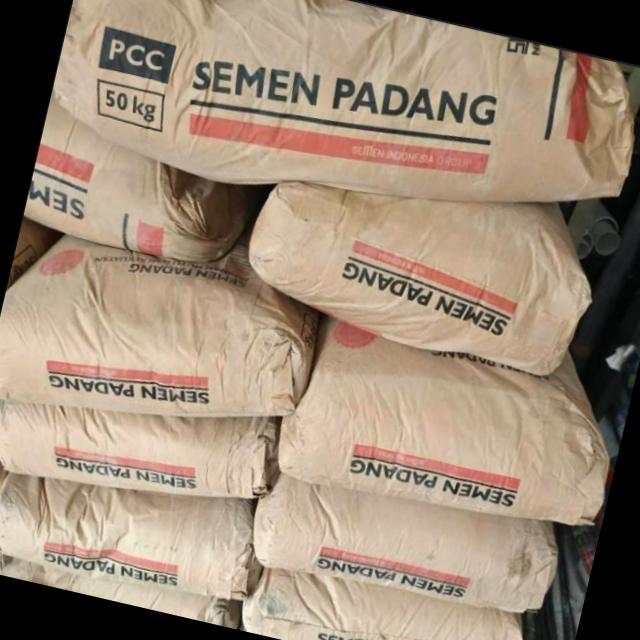KantongSemen: (43, 0, 640, 269), (0, 214, 324, 629), (228, 293, 593, 640), (241, 158, 602, 388), (0, 225, 323, 463)
